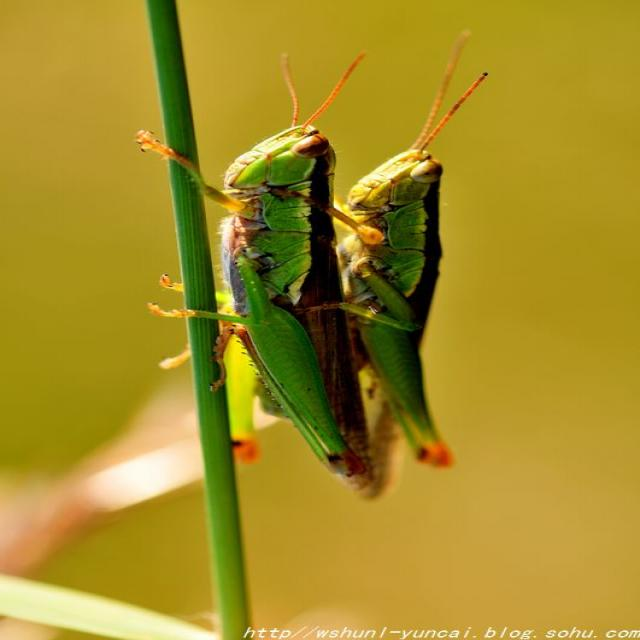ZhaMeng: (137, 95, 362, 490), (348, 117, 492, 473)
